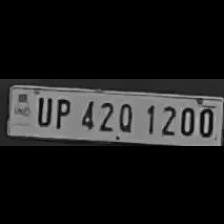0: (196, 102, 216, 136), (177, 101, 195, 135)
1: (138, 100, 156, 134)
2: (158, 100, 176, 136), (96, 97, 114, 131)
4: (75, 96, 97, 130)
P: (51, 94, 73, 128)
Q: (114, 98, 136, 132)
U: (33, 93, 51, 126)
